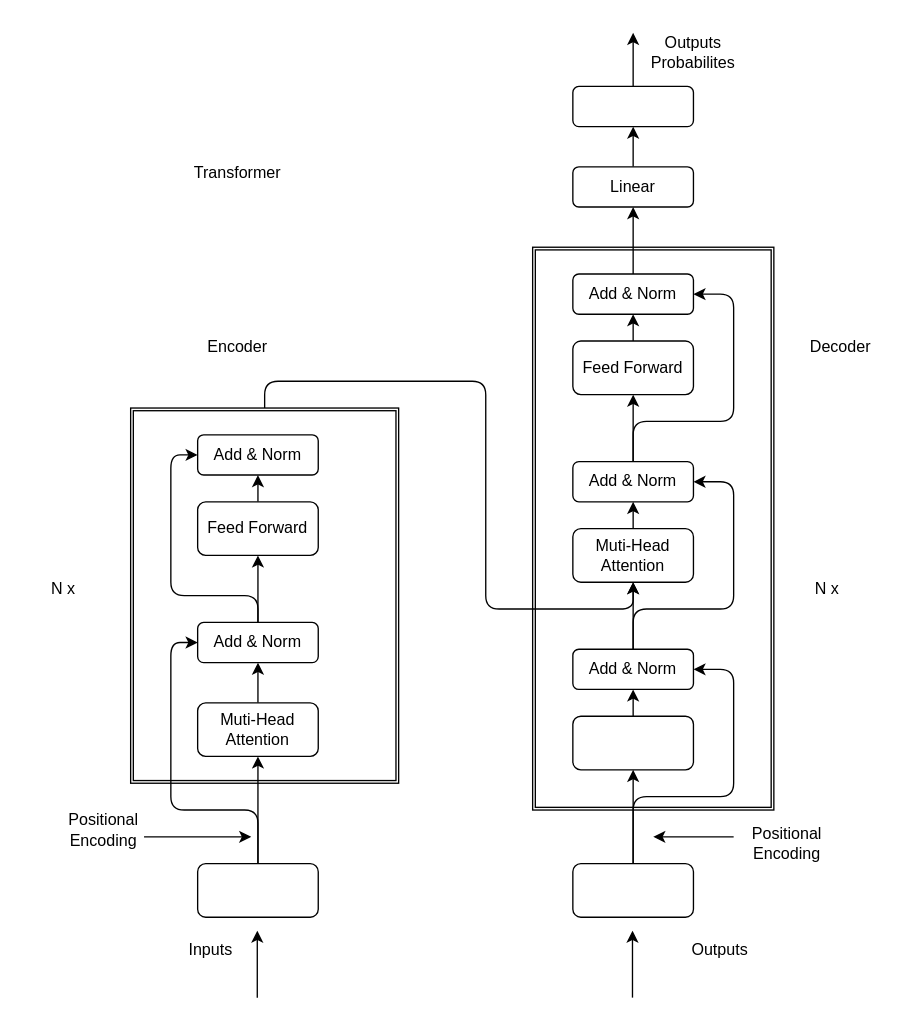
This 903x1032 diagram has some shape labels left out. The shapes that lost their labels are listed below. From the top down, each one's centre as x and y in pixels, then its label:
At (632,106): "Softmax".
At (632,742): "Masked Muti-Head Attention".
At (257,889): "Inputt Embedding".
At (632,889): "Output Embedding".
